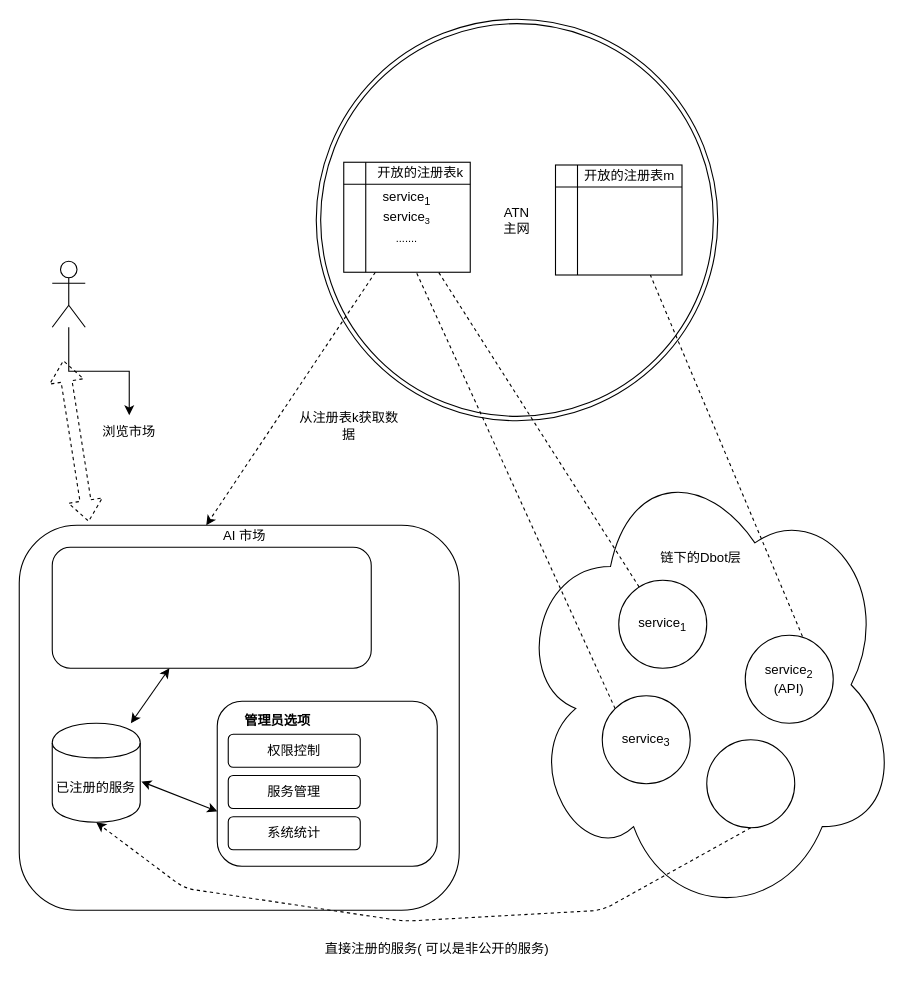
This 919x985 diagram has some shape labels left out. Here are the shapes that lost their labels. From the top down, the box of each, then its label:
(554, 164, 682, 275): service 2 ...... ......
(51, 260, 85, 327): AI 消费者
(51, 546, 371, 668): 网页 UI: 详细的API文档 Dbots服务信息 服务的分数和用户反馈 丰富的功能和检索选项 快速和直接的测试服务
(706, 739, 795, 828): service n
